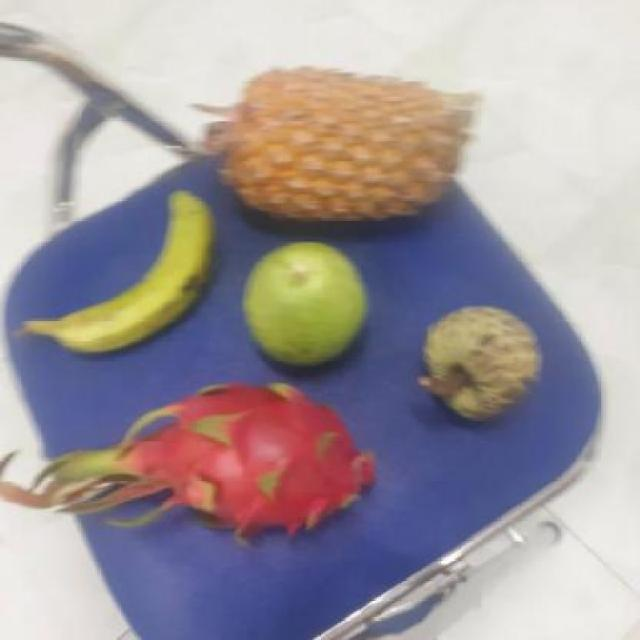dragon fruit: (130, 383, 384, 542)
guava: (243, 240, 372, 372)
sugar apple: (420, 306, 542, 420)
